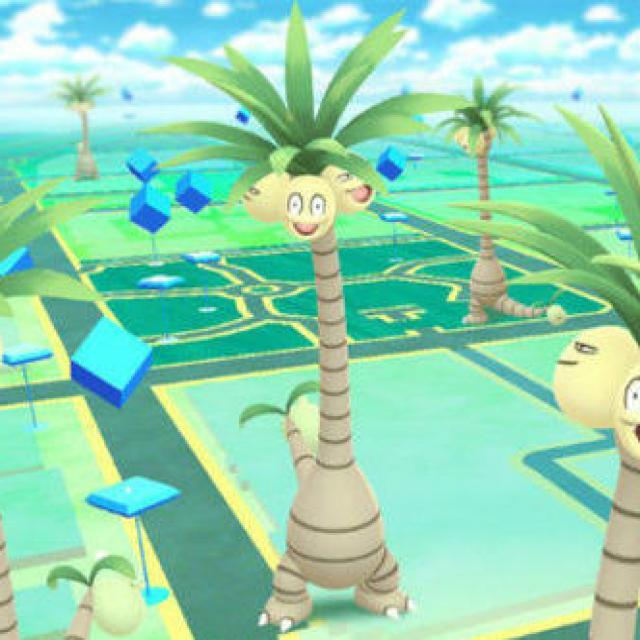Exeggutor: (250, 90, 409, 627), (454, 86, 515, 324)
